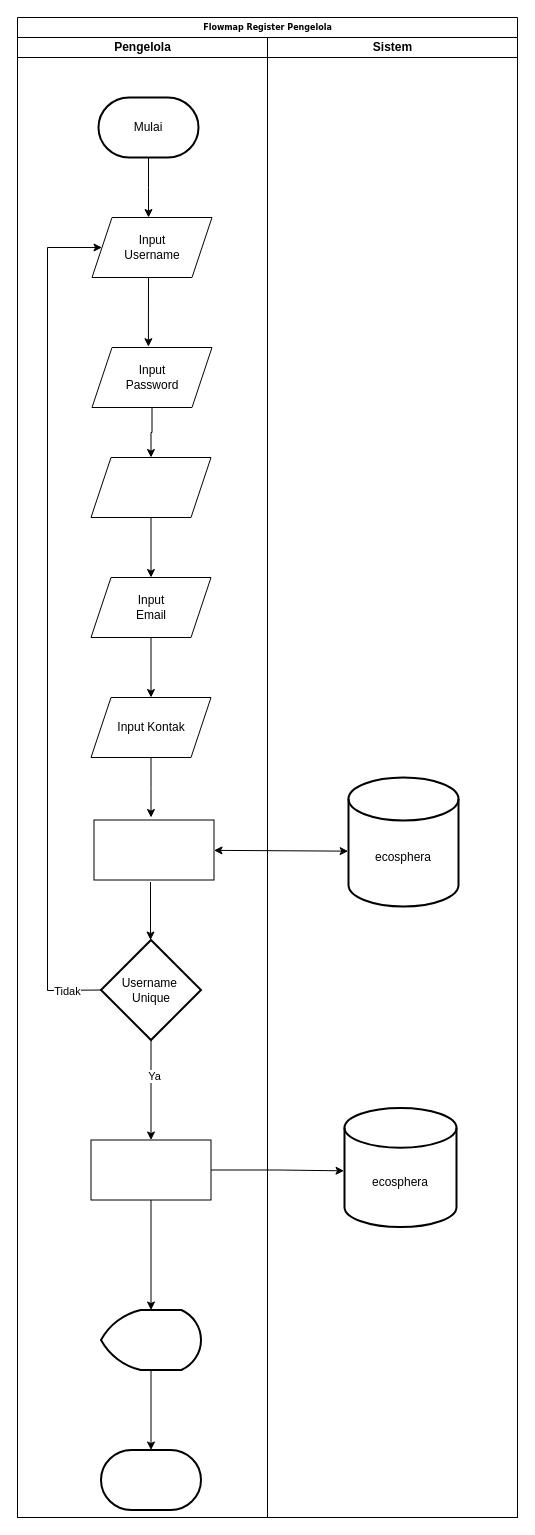
This 535x1535 diagram has some shape labels left out. The shapes that lost their labels are listed below. From the top down, each one's centre as x and y in pixels, then its label:
At (150,487): "Input Nama Pengelola".
At (153,849): "Verifikasi Username Unique".
At (150,1169): "Buat Data Pengelola".
At (151,1339): "Login Page".
At (151,1479): "Selesai".
